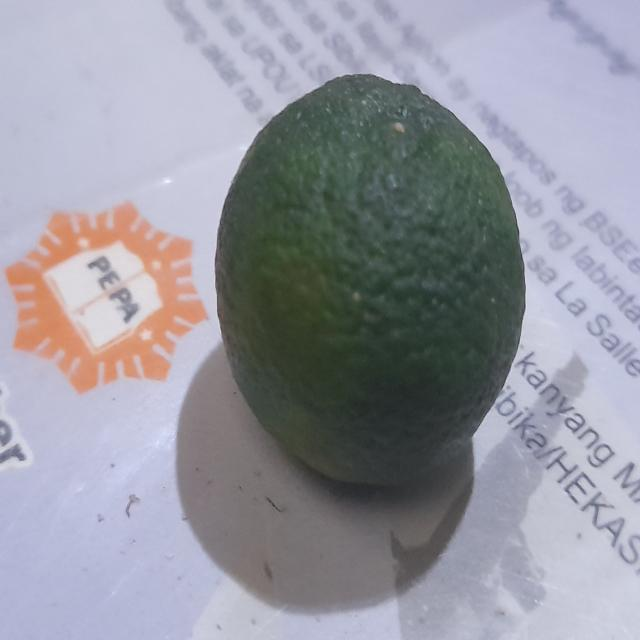heathy: (211, 72, 525, 490)
